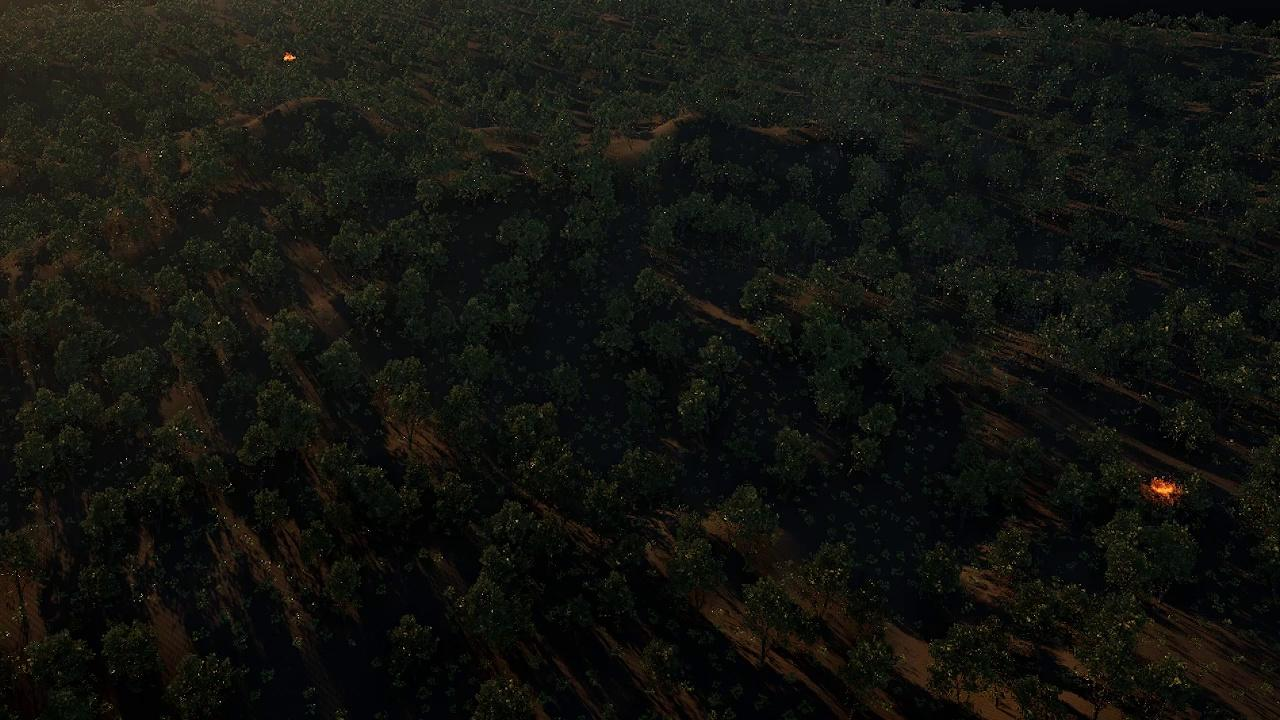fire: (1147, 478, 1177, 500), (283, 52, 297, 61)
